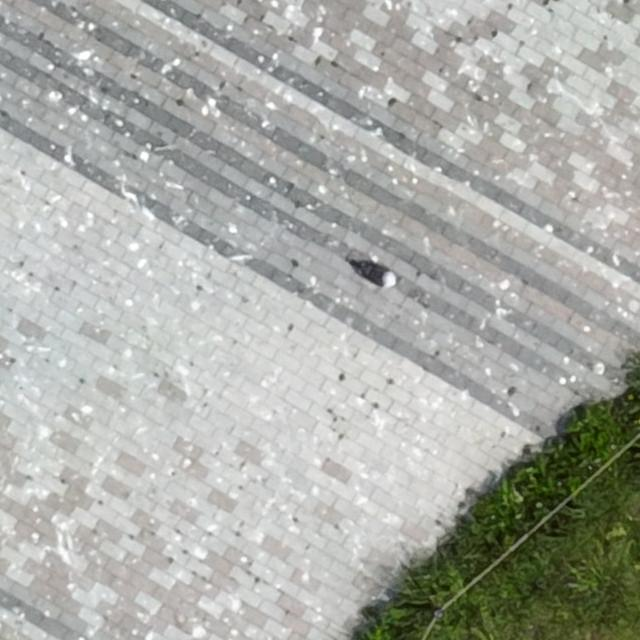umineko: (357, 264, 395, 285)
